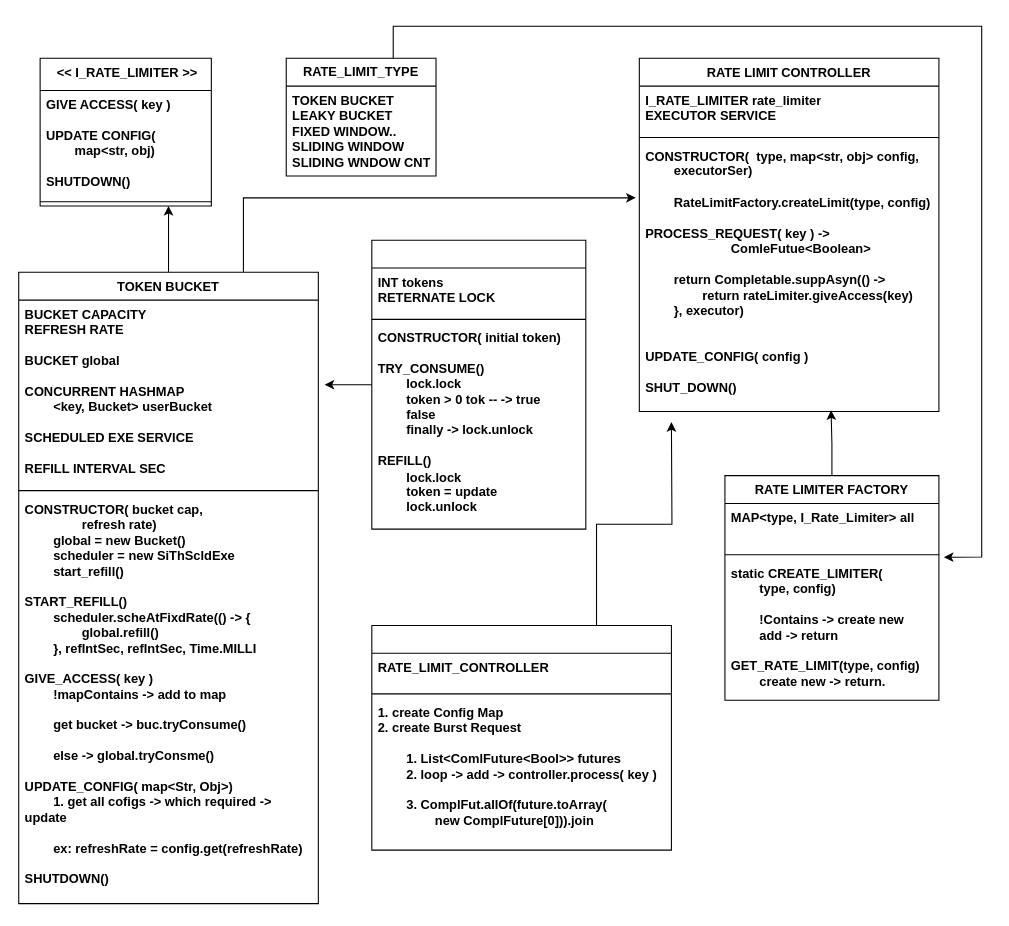
This 1009x926 diagram has some shape labels left out. The box of each missing label's shape, as (x1, y1, x2, y2) in pixels:
BUCKET: (371, 239, 586, 529)
MAIN: (371, 624, 671, 850)
